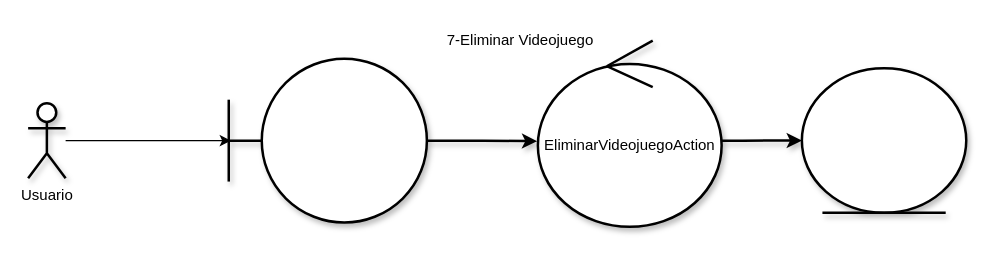
This 996x258 diagram has some shape labels left out. The shapes that lost their labels are listed below. From the top down, each one's centre as x and y in pixels, then its label:
At pixel 328 142: "EliminarVideojuegoUi".
At pixel 884 142: "Videojuego4".
